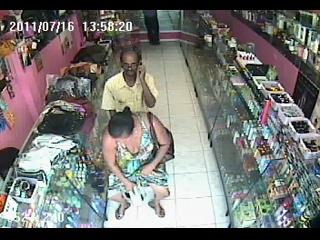Normal: (100, 48, 160, 137), (142, 10, 160, 46)
shoplifting: (101, 108, 175, 222)
